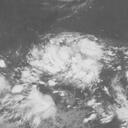cyclone: (34, 30, 100, 88)
